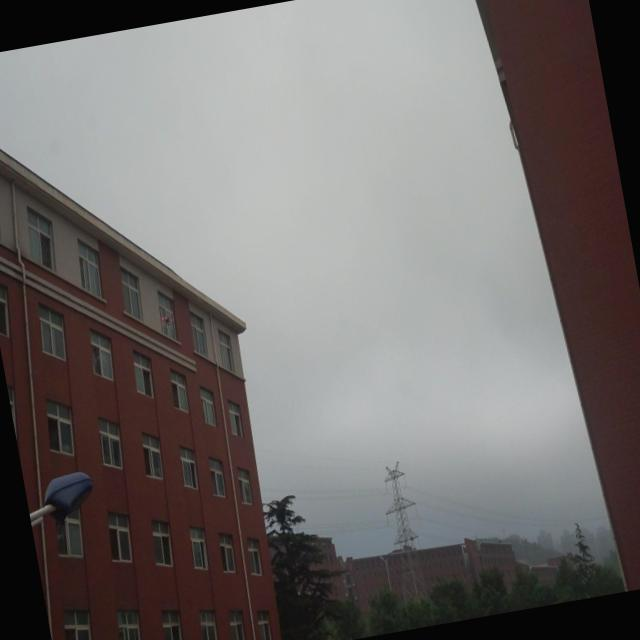drone: (160, 308, 176, 328)
